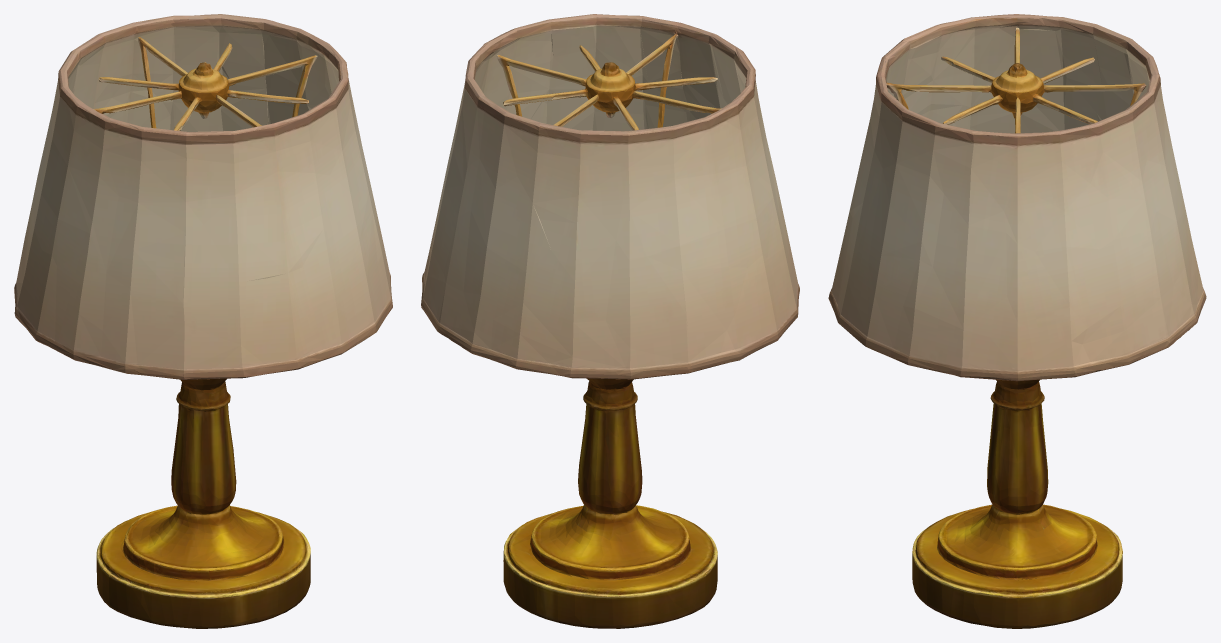
File: jacket_puffer_white_2.glb
3 views of the same model, side by side, from view 1: azimuth 30°, elevation 25°; view 2: azimuth 150°, elevation 25°; view 3: azimuth 270°, elevation 25° (orthographic).
Parts seen in each view (by area): view 1: geometry_0; view 2: geometry_0; view 3: geometry_0.
Part boxes in pixels (left/top/right/bottom): geometry_0: left=14, top=14, right=392, bottom=628; geometry_0: left=421, top=14, right=799, bottom=628; geometry_0: left=828, top=14, right=1206, bottom=628.
Size of the model in its own units: 0.6716 by 0.9986 by 0.6573.
1 material, 1 textured.
